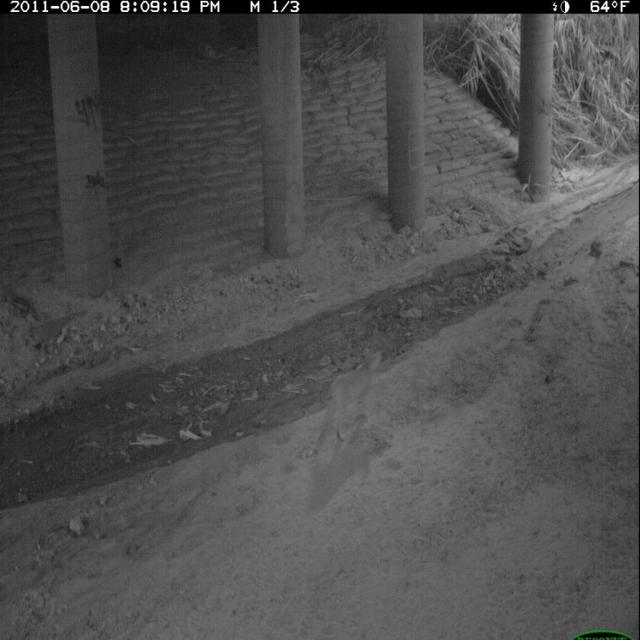bobcat: (310, 343, 384, 459)
